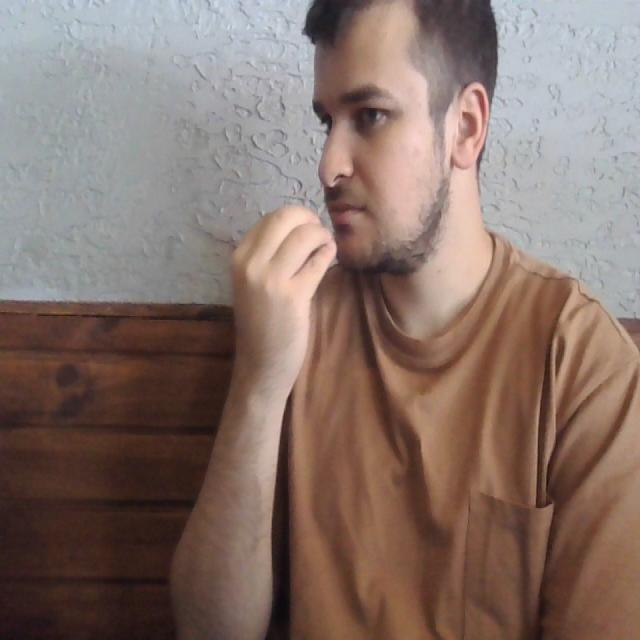Yemek: (223, 190, 371, 296)
